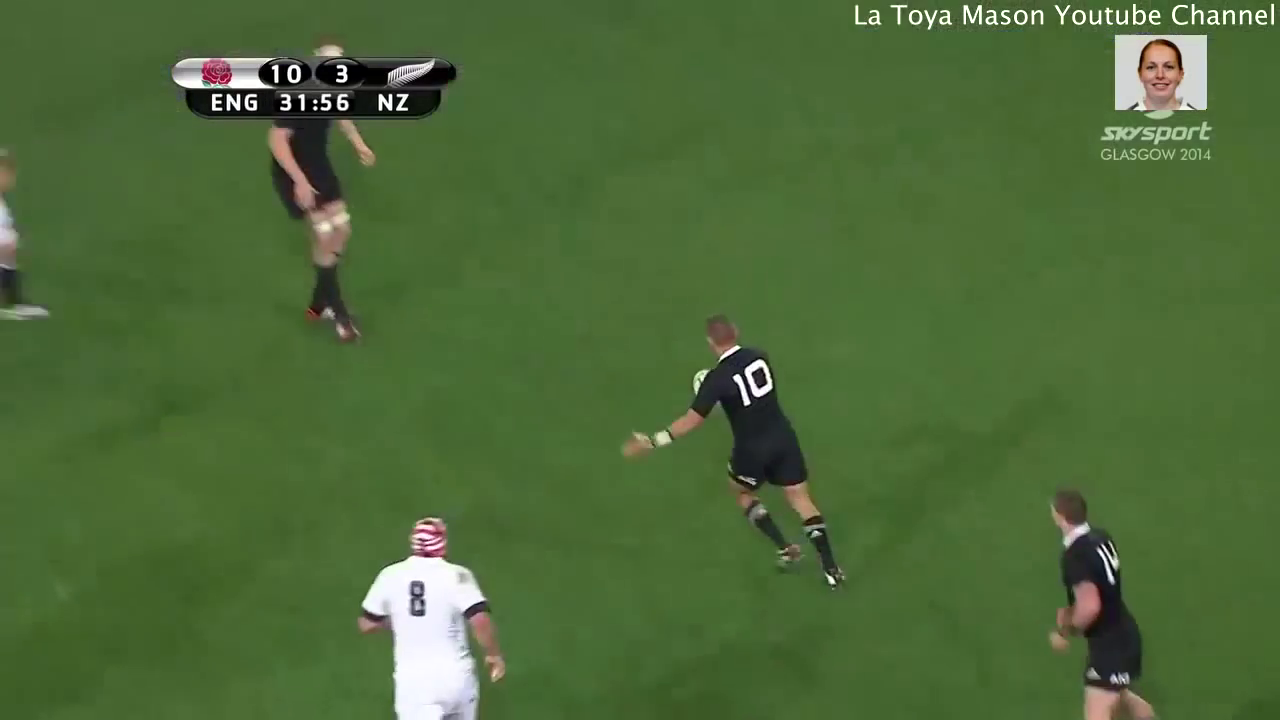ball: (685, 356, 732, 414)
player: (600, 300, 856, 601), (249, 27, 388, 351), (337, 508, 512, 720), (1025, 475, 1168, 720)
